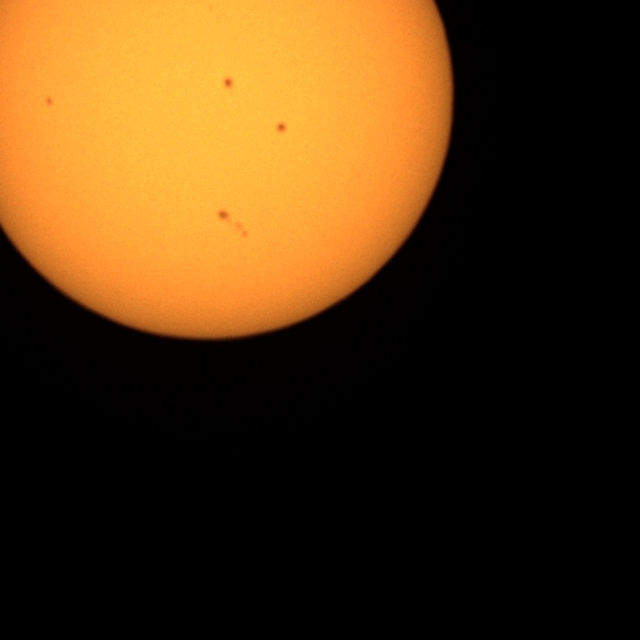sunspot: (217, 208, 250, 240), (215, 208, 231, 223), (222, 76, 235, 91), (275, 121, 288, 135), (44, 95, 55, 109)
